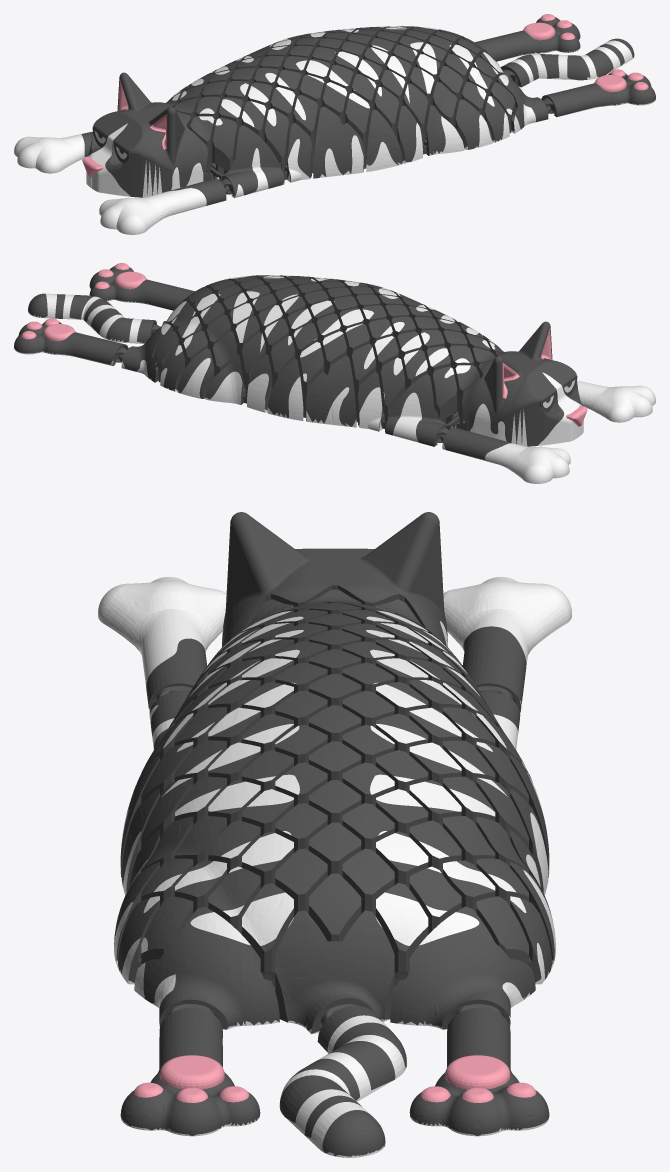
Rendered from gato-rayado.glb.
3 views of the same model, one above another, from view 1: azimuth 30°, elevation 25°; view 2: azimuth 150°, elevation 25°; view 3: azimuth 270°, elevation 25° (orthographic). The views are drawn at different scales.
Visible parts, largest first — view 1: cuerpo, rayas, rosado; view 2: cuerpo, rayas, rosado; view 3: cuerpo, rayas, rosado.
Boxes of the visible parts, bbox=[...] form: cuerpo: bbox=[81, 17, 655, 205]; rayas: bbox=[14, 26, 655, 234]; rosado: bbox=[82, 14, 648, 177]; cuerpo: bbox=[14, 266, 581, 459]; rayas: bbox=[14, 275, 655, 483]; rosado: bbox=[21, 263, 587, 426]; cuerpo: bbox=[114, 512, 554, 1156]; rayas: bbox=[98, 577, 571, 1157]; rosado: bbox=[133, 1055, 536, 1102].
Bounding box in the file's own units: 0.2227 × 0.0324 × 0.0795.
